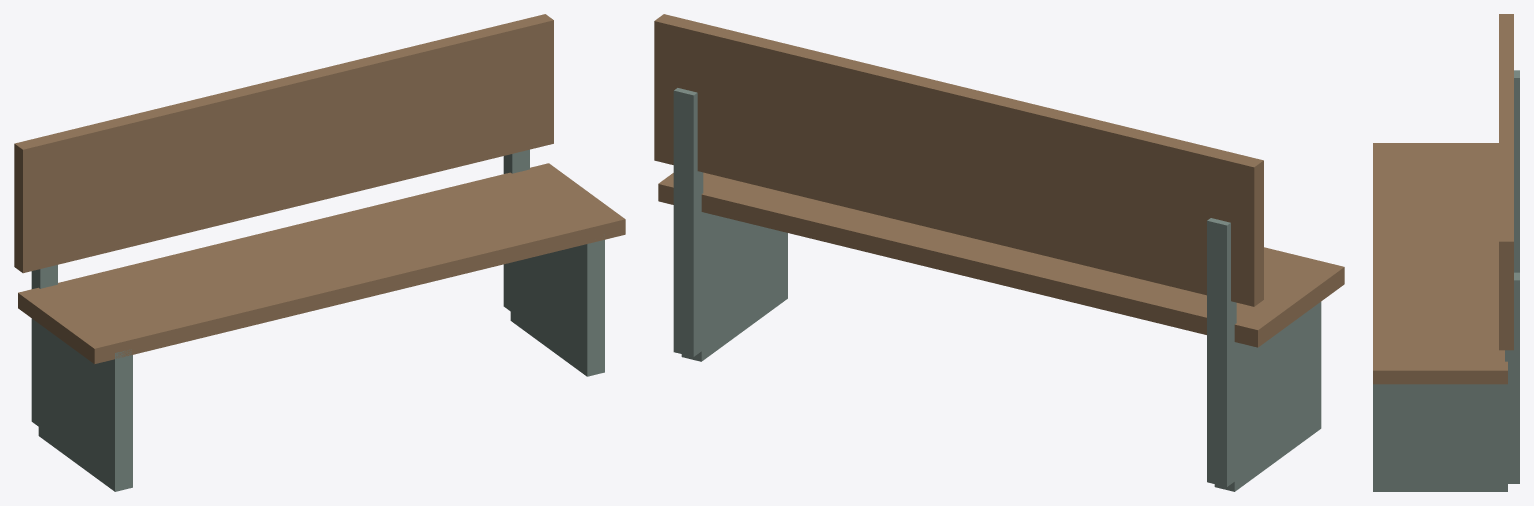
File: bench.glb
3 renders of one model, left to right at view 1: azimuth 30°, elevation 25°; view 2: azimuth 150°, elevation 25°; view 3: azimuth 270°, elevation 25°, orthographic. The views are drawn at different scales.
Parts seen in each view (by area): view 1: bench; view 2: bench; view 3: bench.
Part boxes in pixels (box(x1,y1,x2,y2)): bench: box(14, 14, 625, 491); bench: box(654, 14, 1344, 491); bench: box(1373, 14, 1519, 491).
Size of the model in its own units: 1.8 by 0.955 by 0.49.
